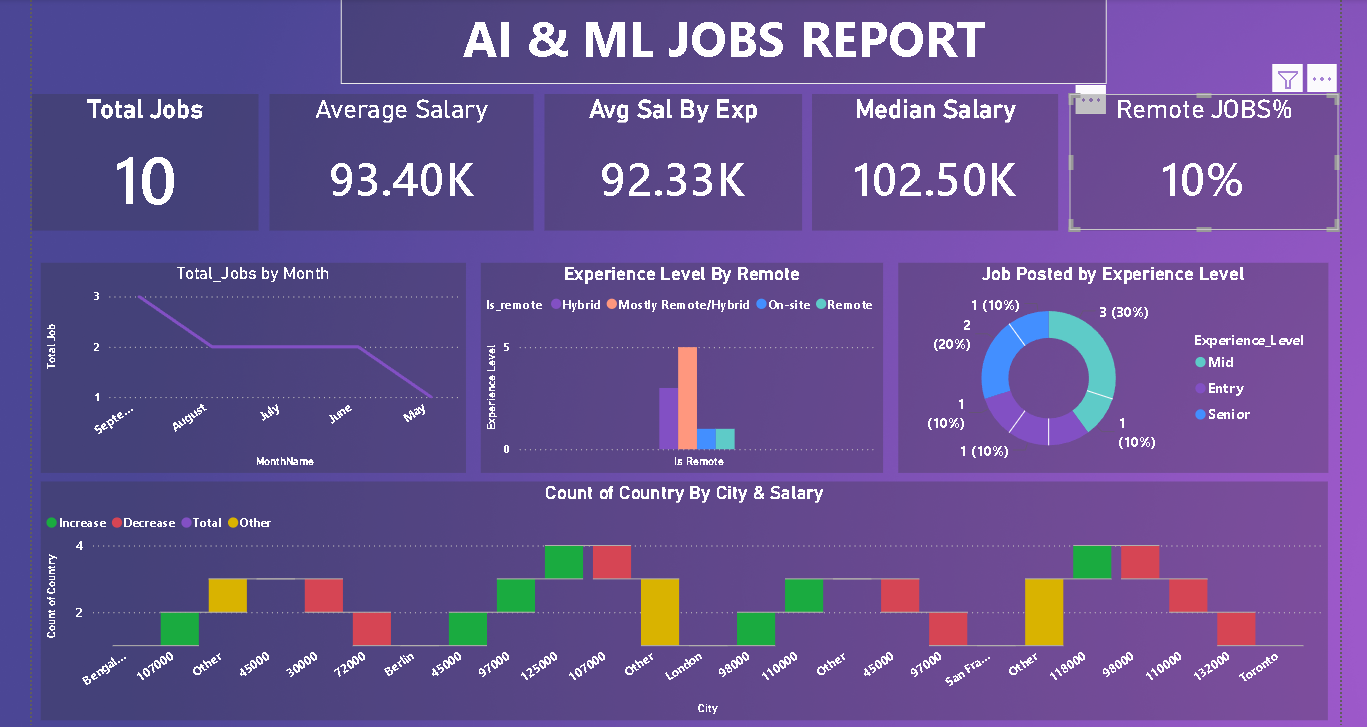

The page's visual inventory and layout, read from the dashboard file:
{"tool":"powerbi","page":{"name":"Overview","canvas":[1280,720],"ordinal":0},"visuals":[{"type":"textbox","box":[302,0,749.6,83.2],"z":0},{"type":"cardVisual","title":"Total Jobs","fields":{"Data":["Fact_Jobs.Total_Jobs"]},"box":[0,92.9,221.3,133.3],"z":1000},{"type":"cardVisual","title":"Average Salary","fields":{"Data":["Fact_Jobs.AvgSalary"]},"box":[232,92.9,258,133.3],"z":2000},{"type":"cardVisual","title":"Median Salary","fields":{"Data":["Fact_Jobs.MedianSalary"]},"box":[763.4,92.9,240.9,133.3],"z":3000},{"type":"cardVisual","title":"Remote JOBS%","fields":{"Data":["Fact_Jobs.RemoteJobs%"]},"box":[1015,92.9,262.9,133.3],"z":4000},{"type":"cardVisual","title":"Avg Sal By Exp","fields":{"Data":["Fact_Jobs.AvgSalaryByExperience"]},"box":[500.7,92.9,251.9,133.3],"z":5000},{"type":"lineChart","title":"Total_Jobs by Month","fields":{"Category":["Date_table.MonthName"],"Y":["Fact_Jobs.Total_Jobs"]},"box":[8.6,258,415.8,205.4],"z":6000},{"type":"clusteredColumnChart","title":"Experience Level By Remote","fields":{"Y":["CountNonNull(Fact_Jobs.Employment_Type)"],"Series":["Fact_Jobs.Is_remote"]},"box":[439,258,393.8,205.4],"z":7000},{"type":"donutChart","title":"Job Posted by Experience Level","fields":{"Series":["Fact_Jobs.Is_remote"],"Y":["Fact_Jobs.Total_Jobs"],"Category":["Fact_Jobs.Experience_Level"]},"box":[847.4,258,420.7,205.4],"z":8000},{"type":"waterfallChart","title":"Count of Country By City & Salary","fields":{"Category":["Dim_Locations.City"],"Breakdown":["Fact_Jobs.Salary_USD"],"Y":["CountNonNull(Dim_Locations.Country)"]},"box":[8.6,472,1259.5,233.6],"z":9000}]}

Visuals, with their boxes on the page's 1280x720 design canvas (x1, y1, x2, y2). These are canvas units, not pixel positions in the 1367x727 screenshot, which may show the page scaled, cropped or inside an application window:
textbox: <region>302, 0, 1052, 83</region>
"Total Jobs" cardVisual: <region>0, 93, 221, 226</region>
"Average Salary" cardVisual: <region>232, 93, 490, 226</region>
"Median Salary" cardVisual: <region>763, 93, 1004, 226</region>
"Remote JOBS%" cardVisual: <region>1015, 93, 1278, 226</region>
"Avg Sal By Exp" cardVisual: <region>501, 93, 753, 226</region>
"Total_Jobs by Month" lineChart: <region>9, 258, 424, 463</region>
"Experience Level By Remote" clusteredColumnChart: <region>439, 258, 833, 463</region>
"Job Posted by Experience Level" donutChart: <region>847, 258, 1268, 463</region>
"Count of Country By City & Salary" waterfallChart: <region>9, 472, 1268, 706</region>
